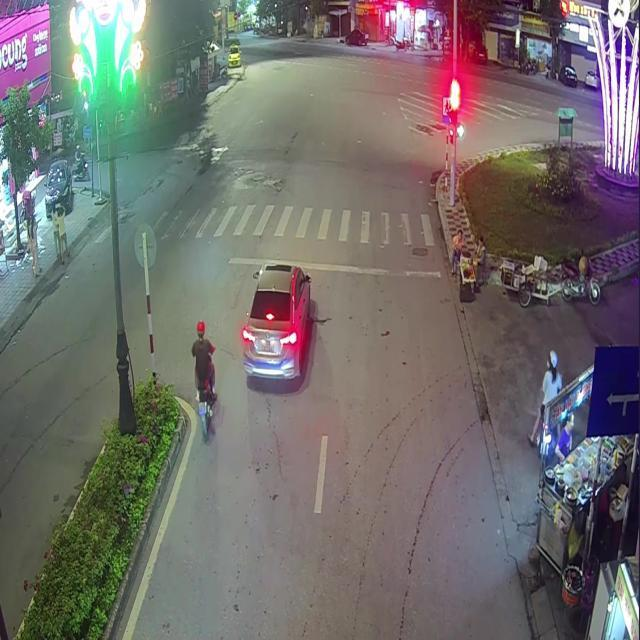car: (242, 260, 311, 379)
motobike: (190, 342, 215, 440)
red_light: (450, 92, 457, 125)
stop_line: (226, 256, 440, 277)
